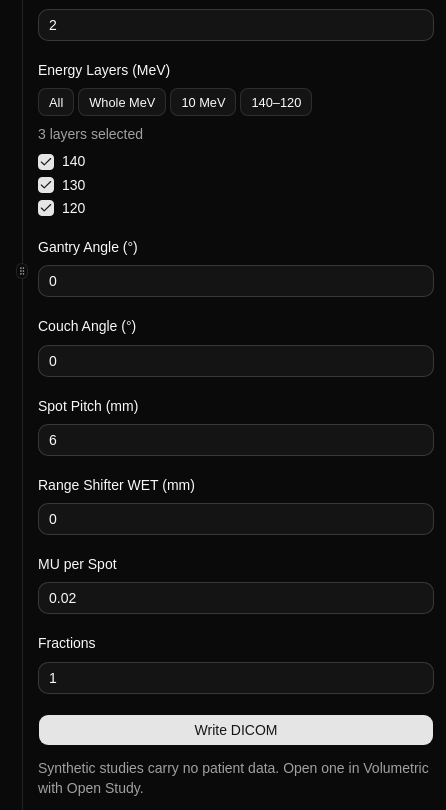
Test: writes a phantom study from the catalog defaults
Click the button "Write DICOM" at point(236, 730), box left=38, top=714, right=434, bottom=746
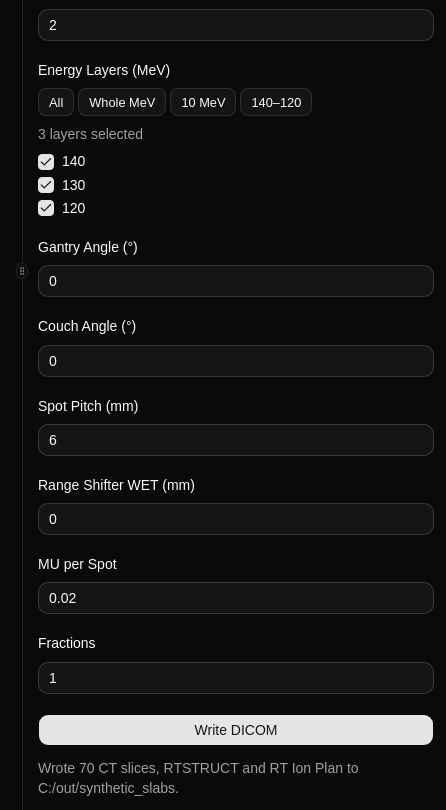
Expected: the text "Wrote 70 CT slices" is shown, left=38, top=760, right=359, bottom=796
